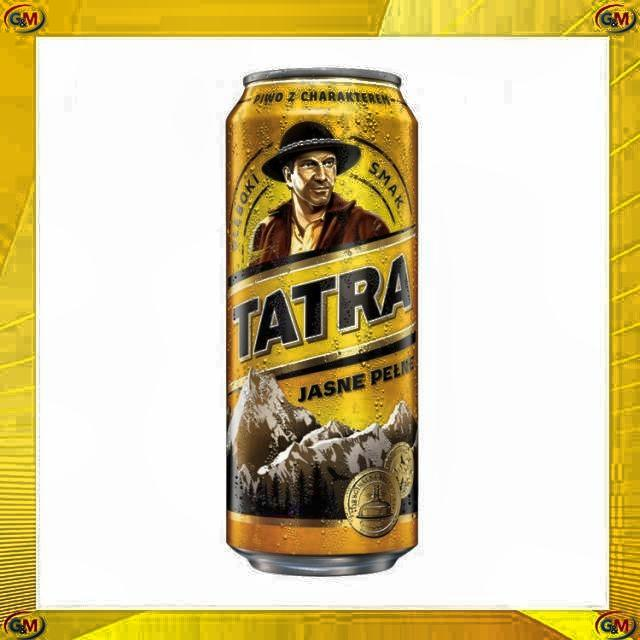can: (221, 60, 426, 592)
